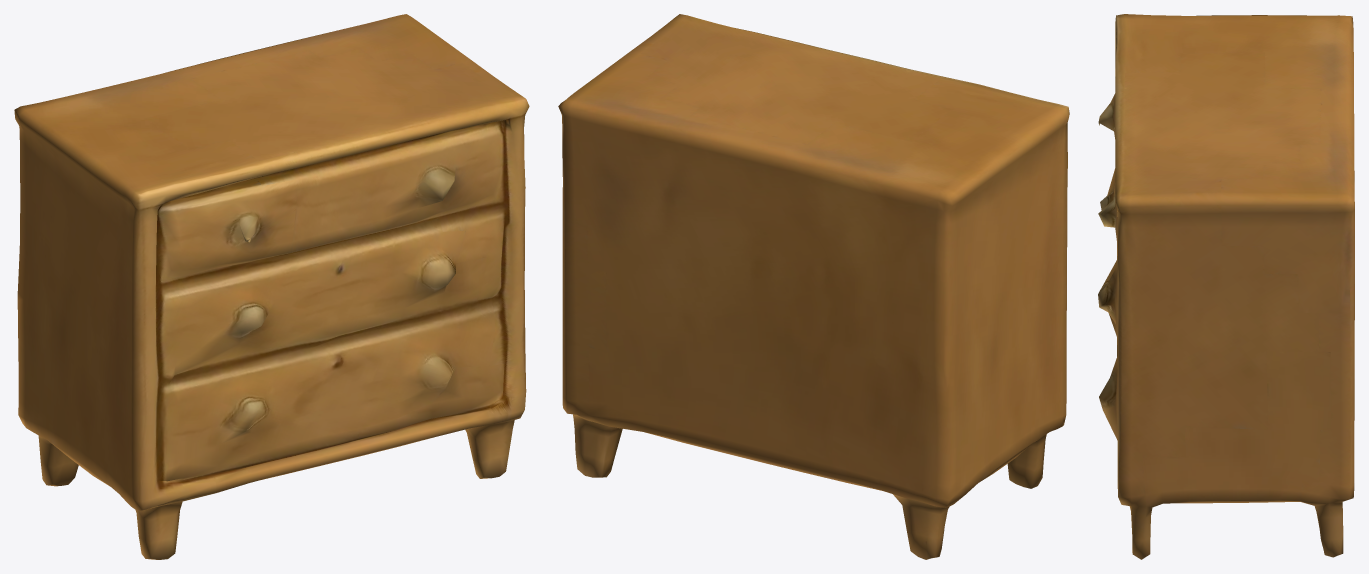
Rendered from dresser.glb.
The picture shows the model from 3 angles, left to right: view 1: azimuth 30°, elevation 25°; view 2: azimuth 150°, elevation 25°; view 3: azimuth 270°, elevation 25°; orthographic projection. The views are drawn at different scales.
Parts seen in each view (by area): view 1: dresser; view 2: dresser; view 3: dresser.
Boxes of the visible parts, box(x1,y1,x2,y2) form: dresser: box(14, 14, 529, 559); dresser: box(558, 14, 1069, 559); dresser: box(1098, 14, 1354, 559).
Size of the model in its own units: 1 by 0.92 by 0.58.
1 material, 1 textured.
